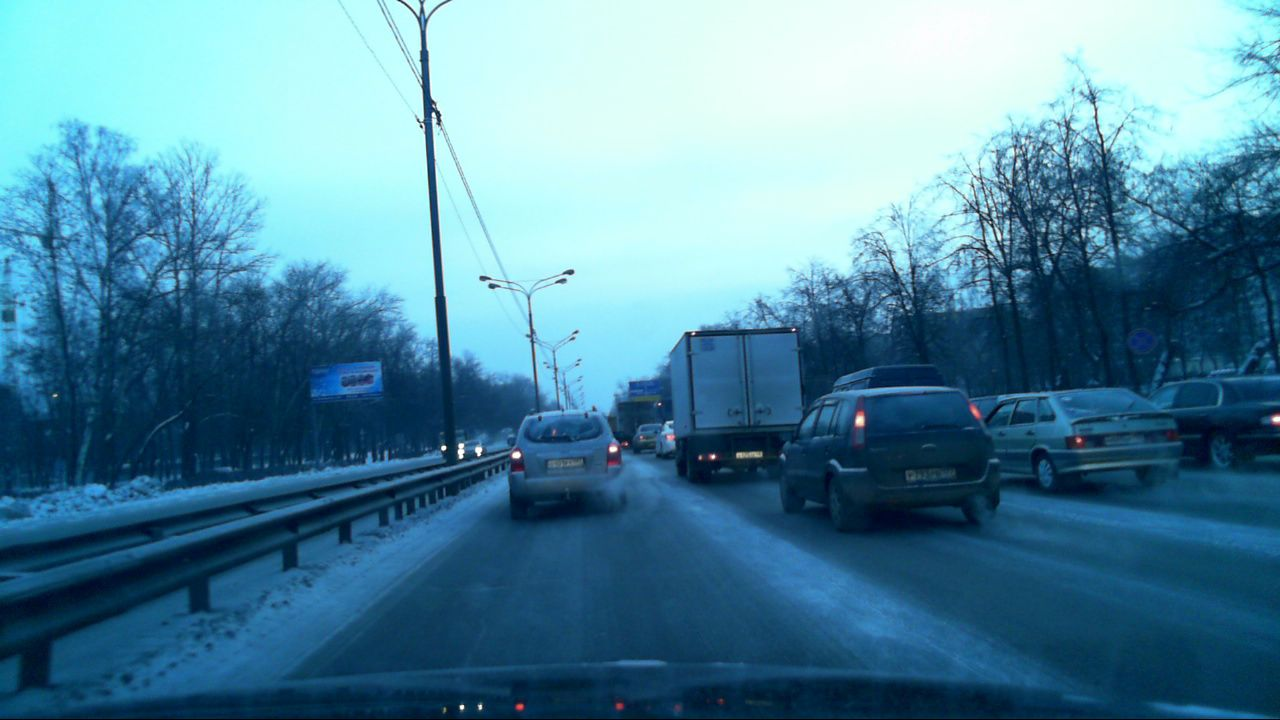No Parking: (1125, 327, 1157, 357)
